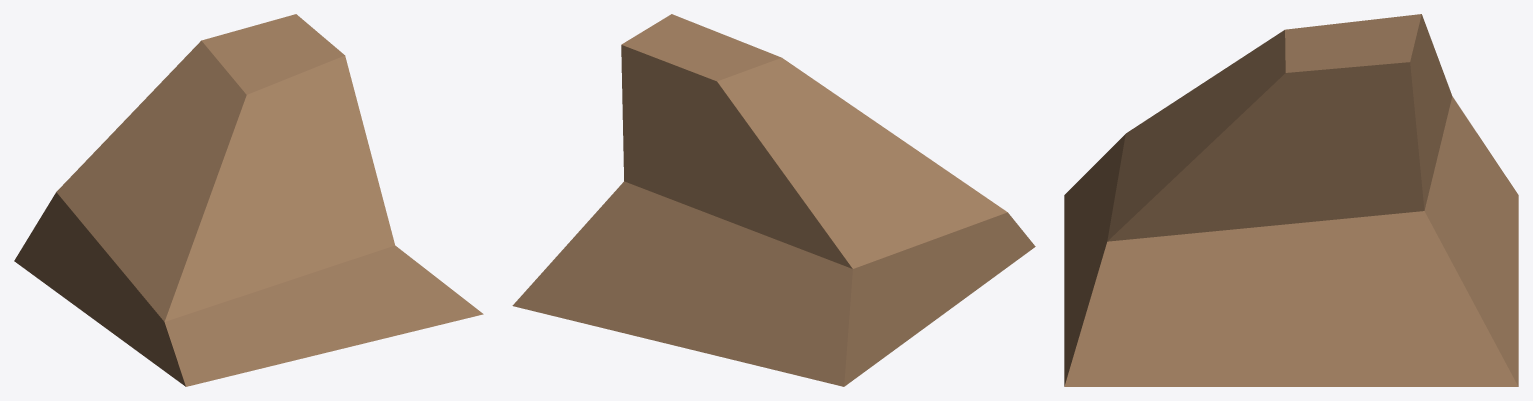
Rendered from rock2.fbx.
3 views of the same model, side by side, from view 1: azimuth 30°, elevation 25°; view 2: azimuth 150°, elevation 25°; view 3: azimuth 270°, elevation 25° (orthographic). The views are drawn at different scales.
Visible parts, largest first — view 1: Rock; view 2: Rock; view 3: Rock.
Boxes of the visible parts, left/top/right/bottom form: Rock: left=14, top=14, right=483, bottom=386; Rock: left=512, top=14, right=1035, bottom=386; Rock: left=1064, top=14, right=1518, bottom=386.
Bounding box in the file's own units: 435 × 304 × 435.
